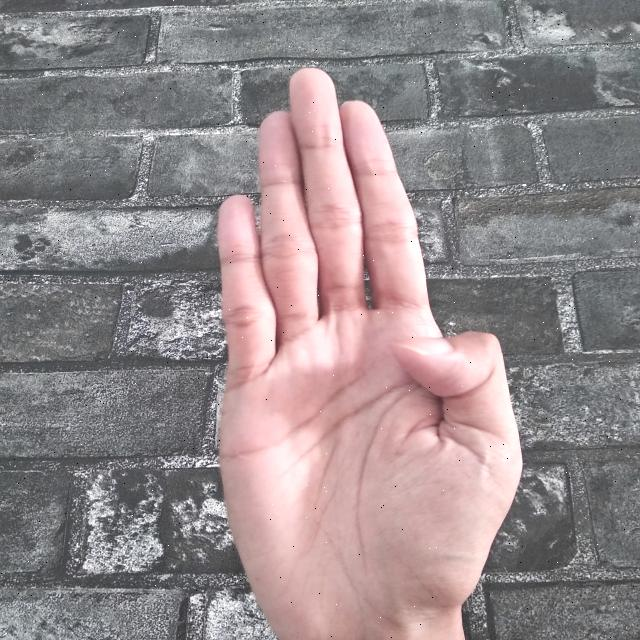B: (209, 57, 528, 640)
